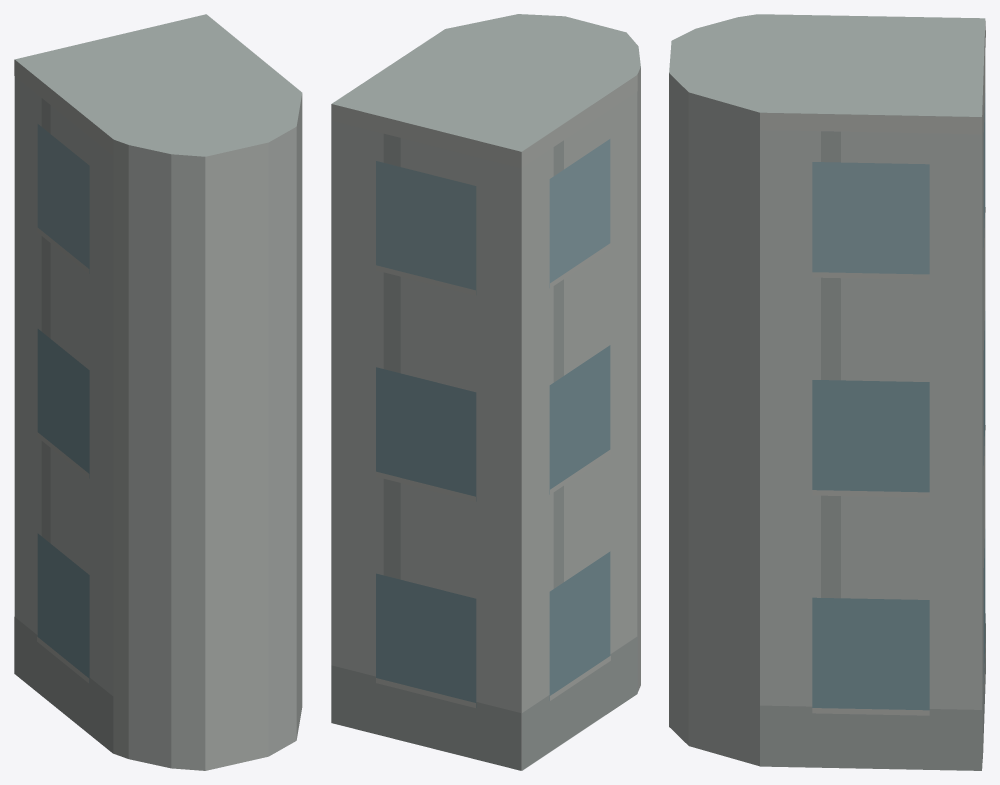
The model's file is survey-upis-32647948.glb.
3 renders of one model, left to right at view 1: azimuth 30°, elevation 25°; view 2: azimuth 150°, elevation 25°; view 3: azimuth 270°, elevation 25°, orthographic. The views are drawn at different scales.
Parts seen in each view (by area): view 1: survey-upis-32647948.tmp; view 2: survey-upis-32647948.tmp; view 3: survey-upis-32647948.tmp.
Part boxes in pixels (x1,y1,x2,y2): survey-upis-32647948.tmp: (14, 14, 302, 770); survey-upis-32647948.tmp: (331, 14, 640, 770); survey-upis-32647948.tmp: (669, 14, 985, 770).
Size of the model in its own units: 3.1 by 9.15 by 4.02.
